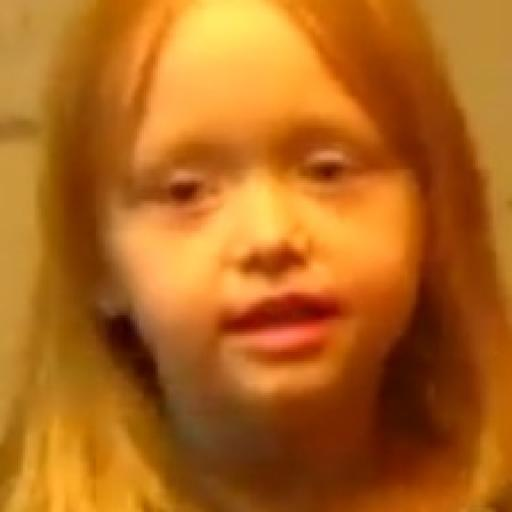Autism: (42, 10, 416, 433)
